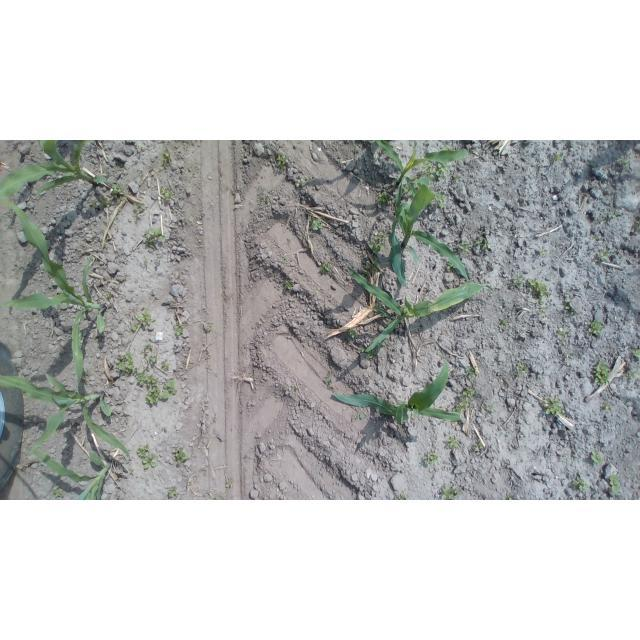Maize: (1, 194, 111, 398), (344, 267, 488, 355), (0, 369, 132, 461), (376, 185, 473, 289), (330, 360, 466, 425), (370, 141, 474, 206), (2, 141, 119, 196), (27, 444, 121, 500)
Weeds: (511, 274, 550, 302), (148, 378, 179, 406), (126, 308, 155, 332), (424, 161, 455, 182), (137, 445, 160, 471), (453, 387, 475, 414), (368, 229, 388, 256), (592, 361, 611, 388), (460, 237, 494, 252), (142, 226, 167, 246), (543, 398, 566, 419), (171, 446, 192, 469), (114, 352, 135, 375), (438, 484, 465, 500), (134, 368, 155, 388), (89, 195, 114, 211), (563, 293, 578, 318), (607, 472, 622, 496), (159, 150, 176, 171), (112, 183, 129, 204), (377, 189, 396, 207), (570, 476, 590, 493), (310, 217, 328, 234), (586, 319, 603, 337), (446, 434, 463, 452), (484, 403, 502, 419), (320, 261, 337, 277), (514, 362, 530, 379), (422, 450, 438, 467), (606, 208, 621, 225), (591, 450, 606, 466), (159, 185, 173, 202), (275, 153, 289, 170), (551, 151, 566, 166), (363, 345, 378, 360), (470, 438, 484, 454), (173, 323, 187, 338), (597, 247, 611, 262), (322, 373, 335, 389), (465, 364, 477, 381), (132, 203, 144, 220), (437, 193, 448, 211), (555, 323, 569, 337), (498, 317, 513, 330), (601, 400, 614, 415), (625, 370, 640, 382), (53, 487, 68, 499), (619, 156, 630, 172), (289, 386, 302, 399), (537, 245, 550, 257), (103, 290, 115, 302), (147, 356, 158, 369), (392, 492, 409, 500), (203, 323, 215, 334), (285, 279, 294, 293), (225, 476, 234, 490), (446, 262, 457, 273), (167, 487, 177, 499), (504, 493, 520, 500), (539, 306, 549, 317), (359, 413, 370, 423), (142, 344, 154, 353), (350, 329, 359, 340), (140, 255, 148, 267), (153, 257, 163, 266), (294, 178, 304, 187), (632, 348, 640, 359), (160, 362, 169, 371), (593, 234, 602, 243), (257, 186, 265, 196), (262, 196, 270, 205), (214, 494, 226, 499)
